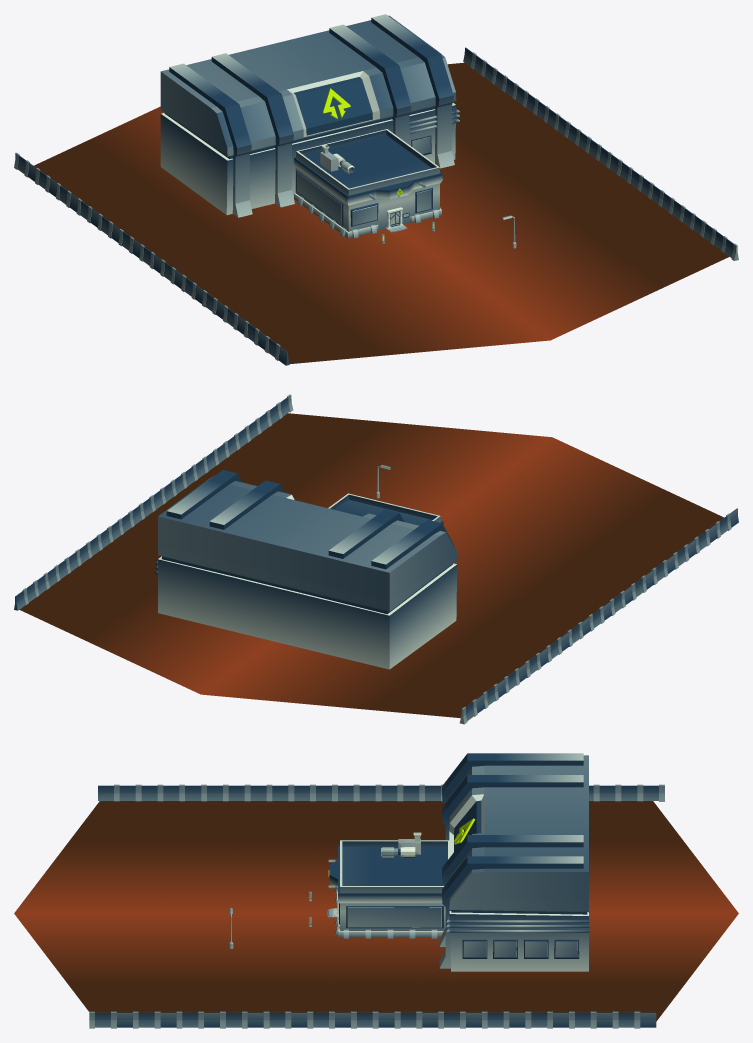
File: Basural.fbx
3 views of the same model, one above another, from view 1: azimuth 30°, elevation 25°; view 2: azimuth 150°, elevation 25°; view 3: azimuth 270°, elevation 25° (orthographic). The views are drawn at different scales.
Visible parts, largest first — view 1: Plane.004, Cube.026, Cube.025, Cube.012, Cube.013, Cube.027, Cube.024, Cube.014, Cube.060, Cube.019; view 2: Plane.004, Cube.026, Cube.027, Cube.024, Cube.012, Cube.013, Cube.025; view 3: Plane.004, Cube.026, Cube.027, Cube.024, Cube.025, Cube.012, Cube.013, Cube.008, Cube.014, Cylinder.016, Cube.019, Cube.053 (+3 smaller).
Boxes of the visible parts, box(x1,y1,x2,y2) form: Plane.004: box(34, 62, 729, 363); Cube.026: box(160, 15, 456, 214); Cube.025: box(295, 129, 439, 231); Cube.012: box(169, 14, 454, 217); Cube.013: box(211, 24, 411, 207); Cube.027: box(463, 47, 738, 260); Cube.024: box(14, 152, 289, 365); Cube.014: box(294, 157, 442, 205); Cube.060: box(296, 170, 343, 225); Cube.019: box(294, 193, 441, 238); Plane.004: box(19, 413, 723, 718); Cube.026: box(158, 476, 457, 669); Cube.027: box(14, 394, 293, 610); Cube.024: box(459, 508, 738, 724); Cube.012: box(166, 470, 454, 569); Cube.013: box(209, 480, 404, 558); Cube.025: box(328, 493, 440, 525); Plane.004: box(14, 801, 738, 1021); Cube.026: box(449, 755, 588, 971); Cube.027: box(89, 1011, 656, 1028); Cube.024: box(98, 784, 664, 801); Cube.025: box(340, 840, 449, 930); Cube.012: box(439, 753, 583, 968); Cube.013: box(439, 775, 583, 946); Cube.008: box(346, 906, 443, 928); Cube.014: box(329, 845, 442, 903); Cylinder.016: box(381, 832, 421, 857); Cube.019: box(338, 916, 443, 937); Cube.053: box(462, 939, 487, 958).
Bounding box in the file's own units: 98.25 × 21.14 × 131.
